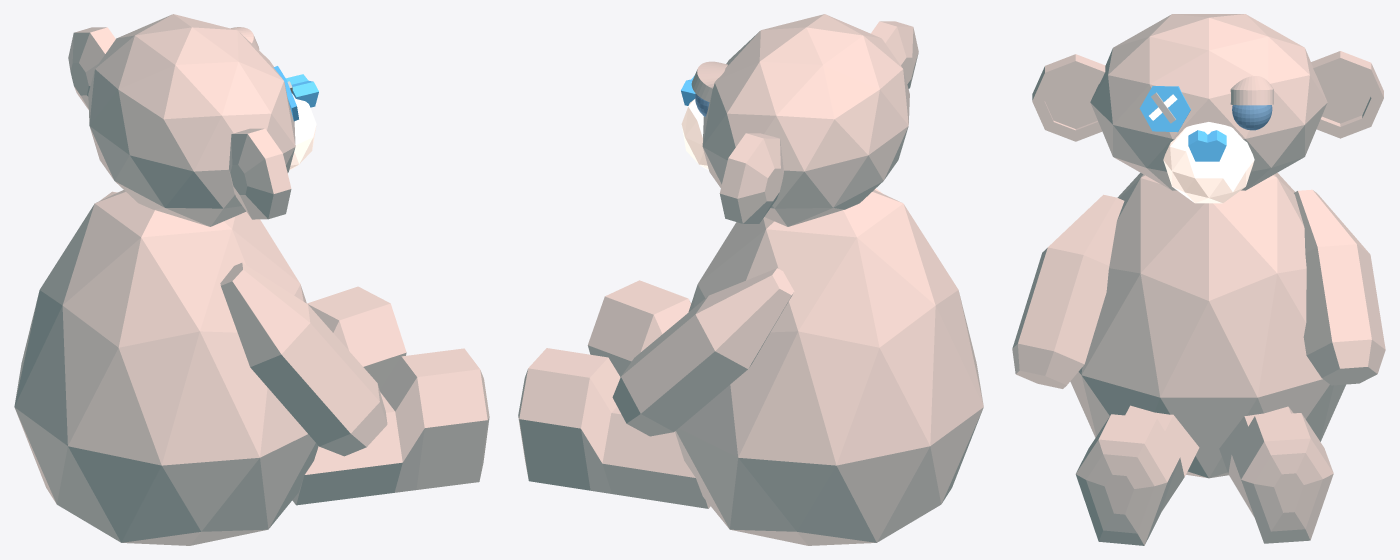
The model's file is teddy.fbx.
3 views of the same model, side by side, from view 1: azimuth 30°, elevation 25°; view 2: azimuth 150°, elevation 25°; view 3: azimuth 270°, elevation 25° (orthographic). The views are drawn at different scales.
Parts seen in each view (by area): view 1: Icosphere, Icosphere.001, Cylinder.002, Cylinder, Cylinder.003, Cylinder.006, Cylinder.005, Icosphere.002, Cube.002; view 2: Icosphere, Icosphere.001, Cylinder.003, Cylinder.001, Cylinder.002, Cylinder.005, Cylinder.006, Icosphere.002, Cylinder.007; view 3: Icosphere, Icosphere.001, Cylinder, Cylinder.001, Cylinder.002, Cylinder.003, Icosphere.002, Cylinder.006, Cylinder.005, Cylinder.004, Cylinder.007, Cube.002 (+1 smaller).
Boxes of the visible parts, <box> form: Icosphere: <box>14,190,318,545</box>; Icosphere.001: <box>88,14,295,226</box>; Cylinder.002: <box>292,348,489,505</box>; Cylinder: <box>220,262,387,456</box>; Cylinder.003: <box>307,286,406,389</box>; Cylinder.006: <box>229,128,291,219</box>; Cylinder.005: <box>68,27,115,109</box>; Icosphere.002: <box>289,94,316,170</box>; Cube.002: <box>286,74,318,107</box>; Icosphere: <box>675,190,983,545</box>; Icosphere.001: <box>702,14,909,226</box>; Cylinder.003: <box>518,348,710,508</box>; Cylinder.001: <box>612,268,794,436</box>; Cylinder.002: <box>587,280,691,376</box>; Cylinder.005: <box>719,133,783,223</box>; Cylinder.006: <box>871,21,918,88</box>; Icosphere.002: <box>681,99,708,170</box>; Cylinder.007: <box>691,61,727,101</box>; Icosphere: <box>1070,172,1345,478</box>; Icosphere.001: <box>1090,14,1327,190</box>; Cylinder: <box>1012,194,1124,388</box>; Cylinder.001: <box>1294,189,1385,385</box>; Cylinder.002: <box>1075,405,1199,545</box>; Cylinder.003: <box>1219,406,1333,543</box>; Icosphere.002: <box>1163,122,1254,203</box>; Cylinder.006: <box>1032,54,1105,141</box>; Cylinder.005: <box>1311,51,1383,138</box>; Cylinder.004: <box>1139,86,1190,132</box>; Cylinder.007: <box>1230,76,1273,105</box>; Cube.002: <box>1188,130,1226,161</box>.
Bounding box in the file's own units: 273 × 303 × 364.
